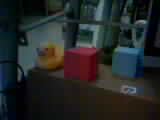duck: (20, 42, 77, 82)
